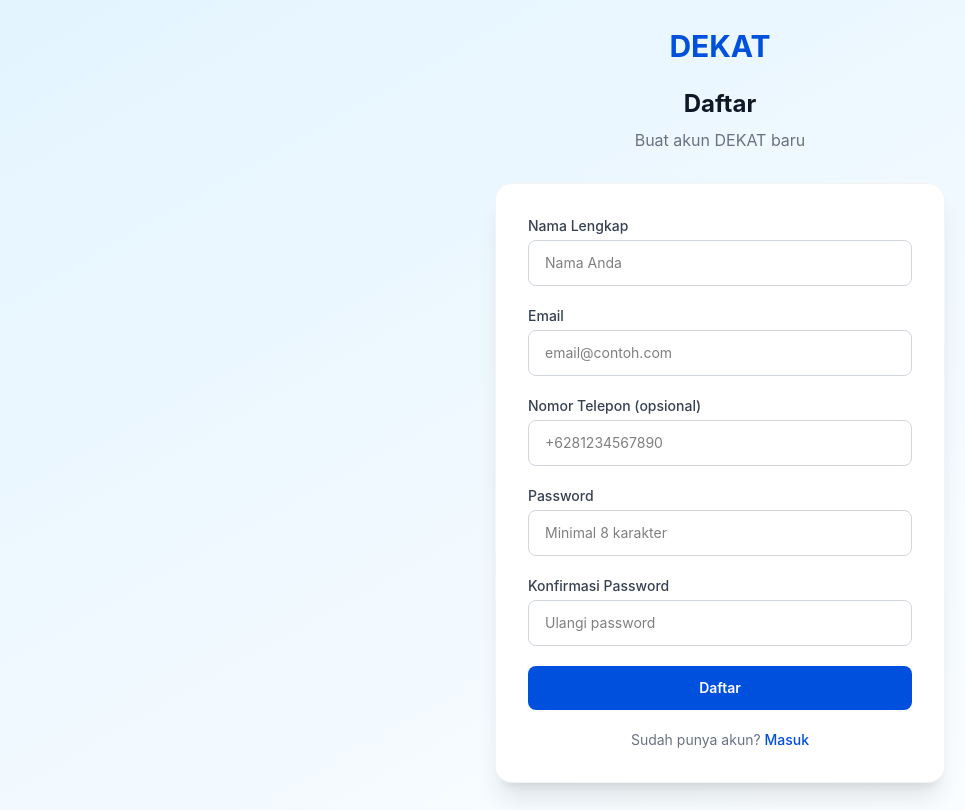
Test: RegisterPage › validates short password
This screenshot has width=965, height=810.
Type "Test User" into the field labelled "Nama Lengkap".
click(720, 263); type("Test User")  # box [528,240,912,286]
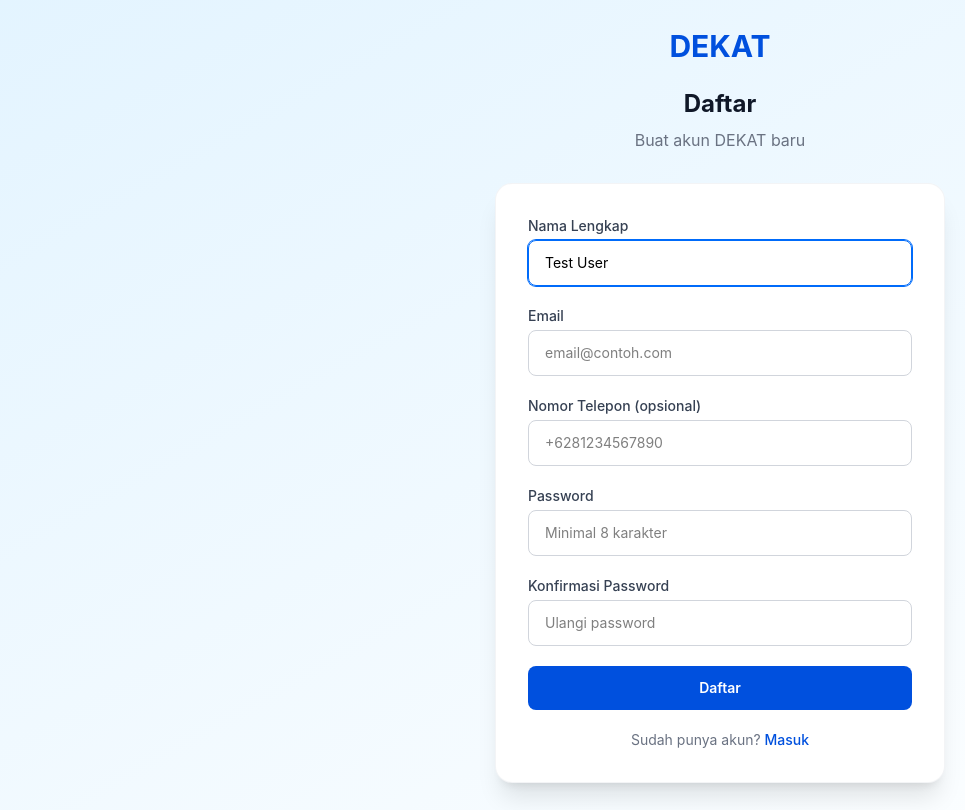
Type "test@example.com" into the field labelled "Email".
click(720, 353); type("test@example.com")  # box [528,330,912,376]
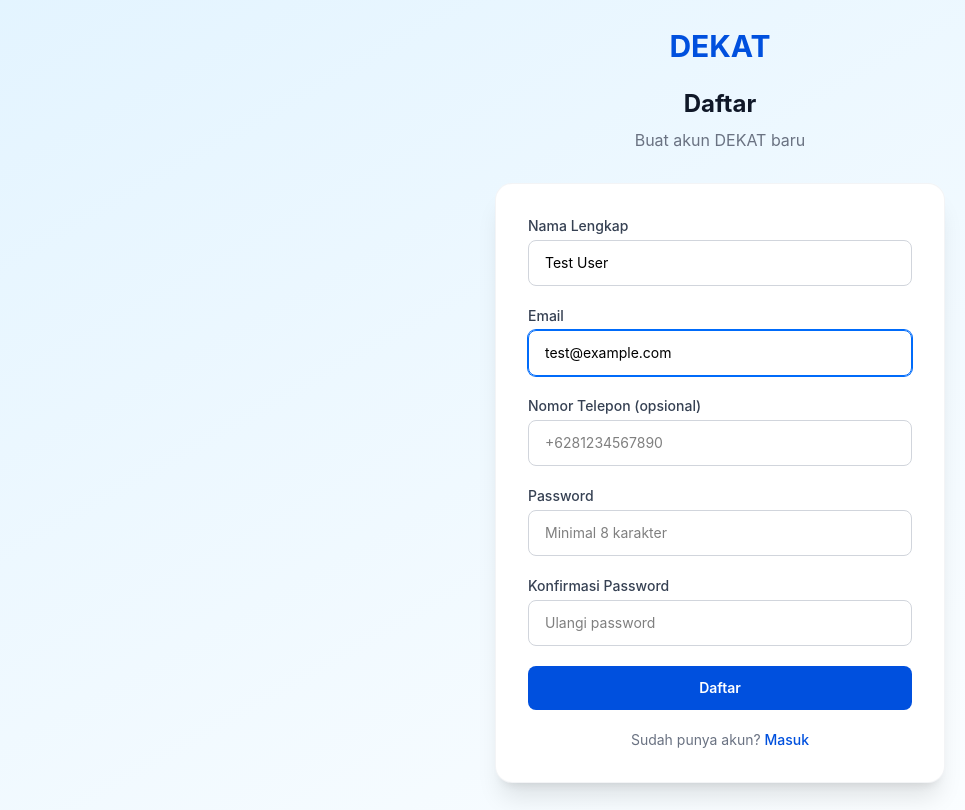
Type "short" into the password field labelled "Password".
click(720, 533); type("short")  # box [528,510,912,556]
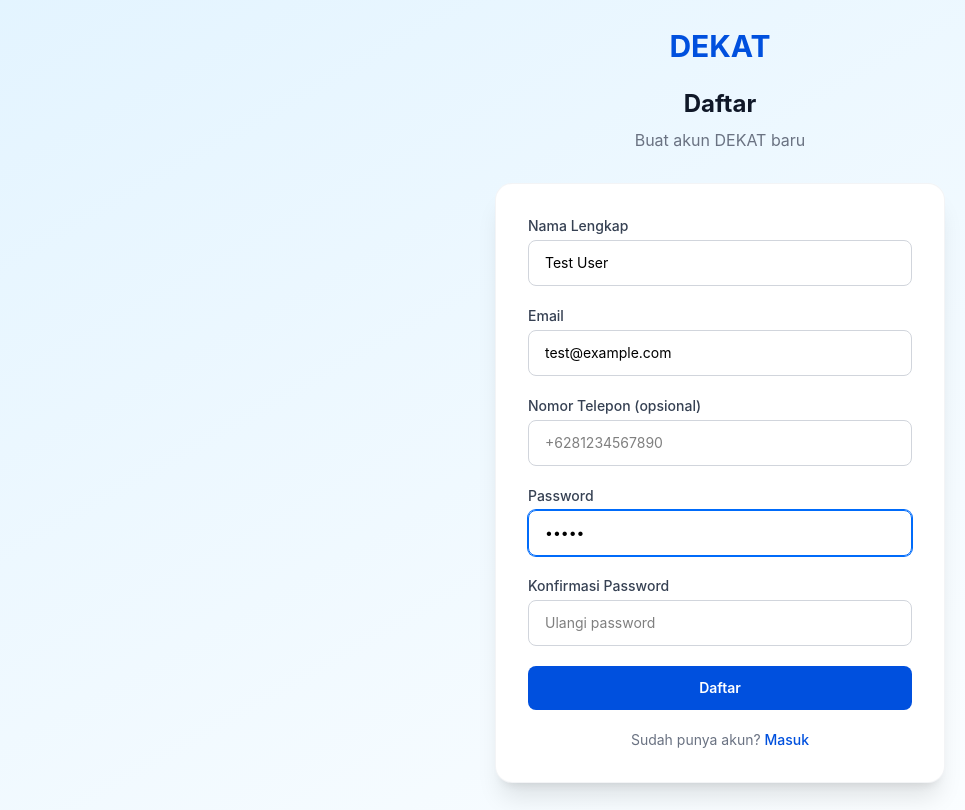
Type "short" into the password field labelled "Konfirmasi Password".
click(720, 623); type("short")  # box [528,600,912,646]
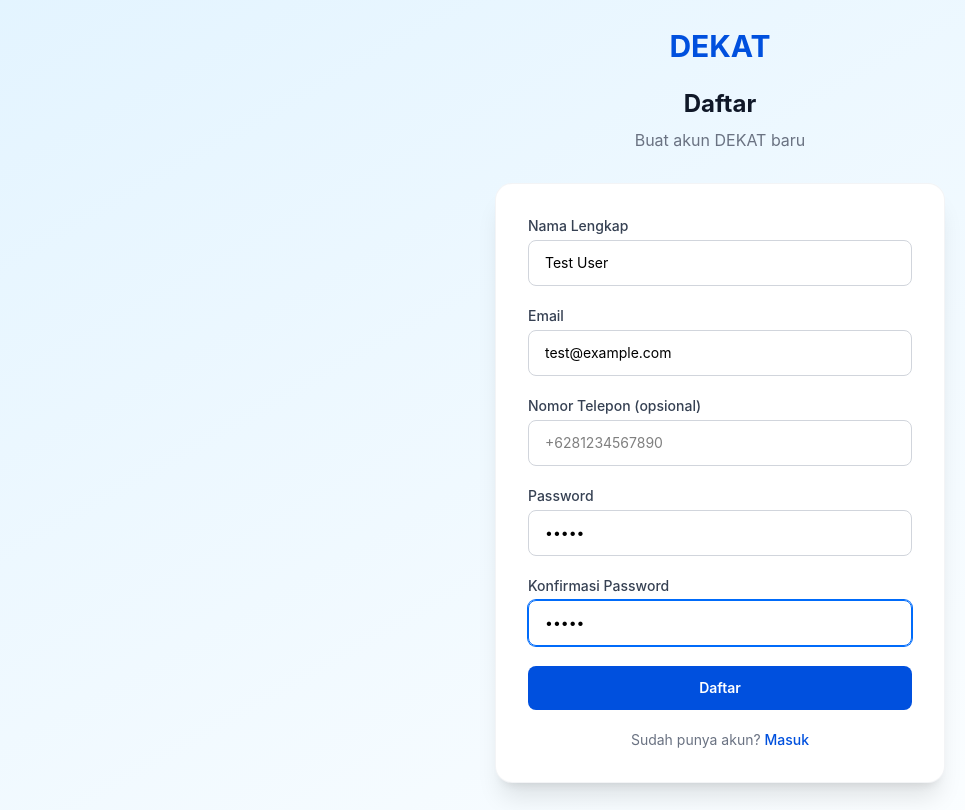
Click the button "Daftar".
click(720, 688)  # box [528,666,912,710]
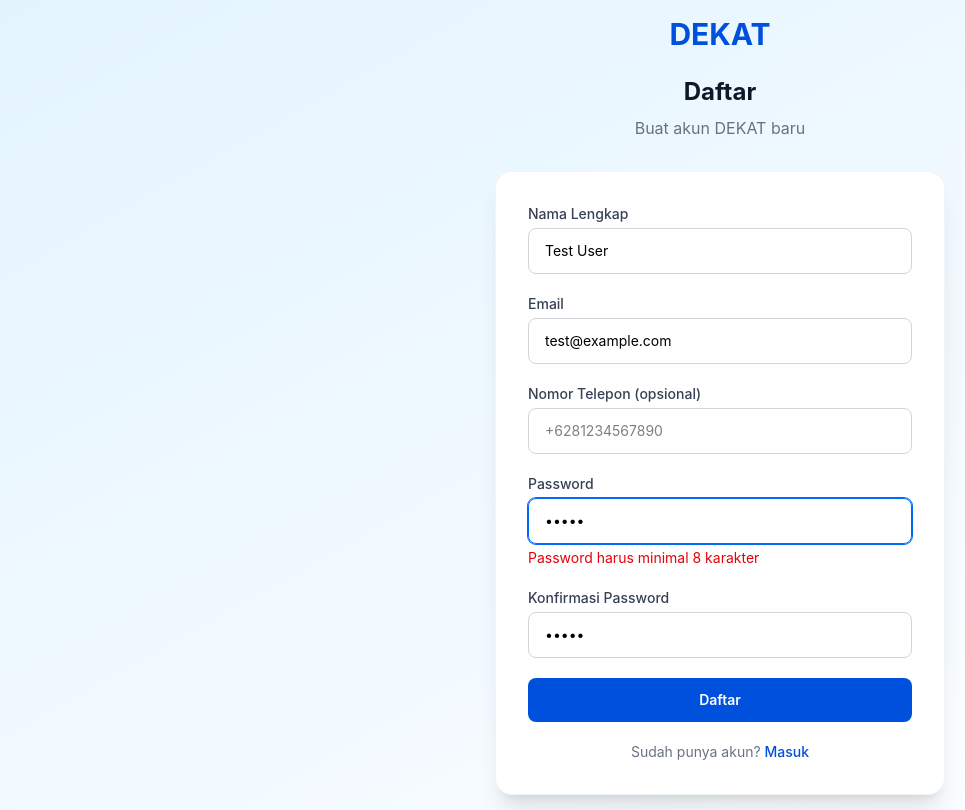
Now the text "Password harus minimal 8 karakter" is shown, box [528,549,759,566]
